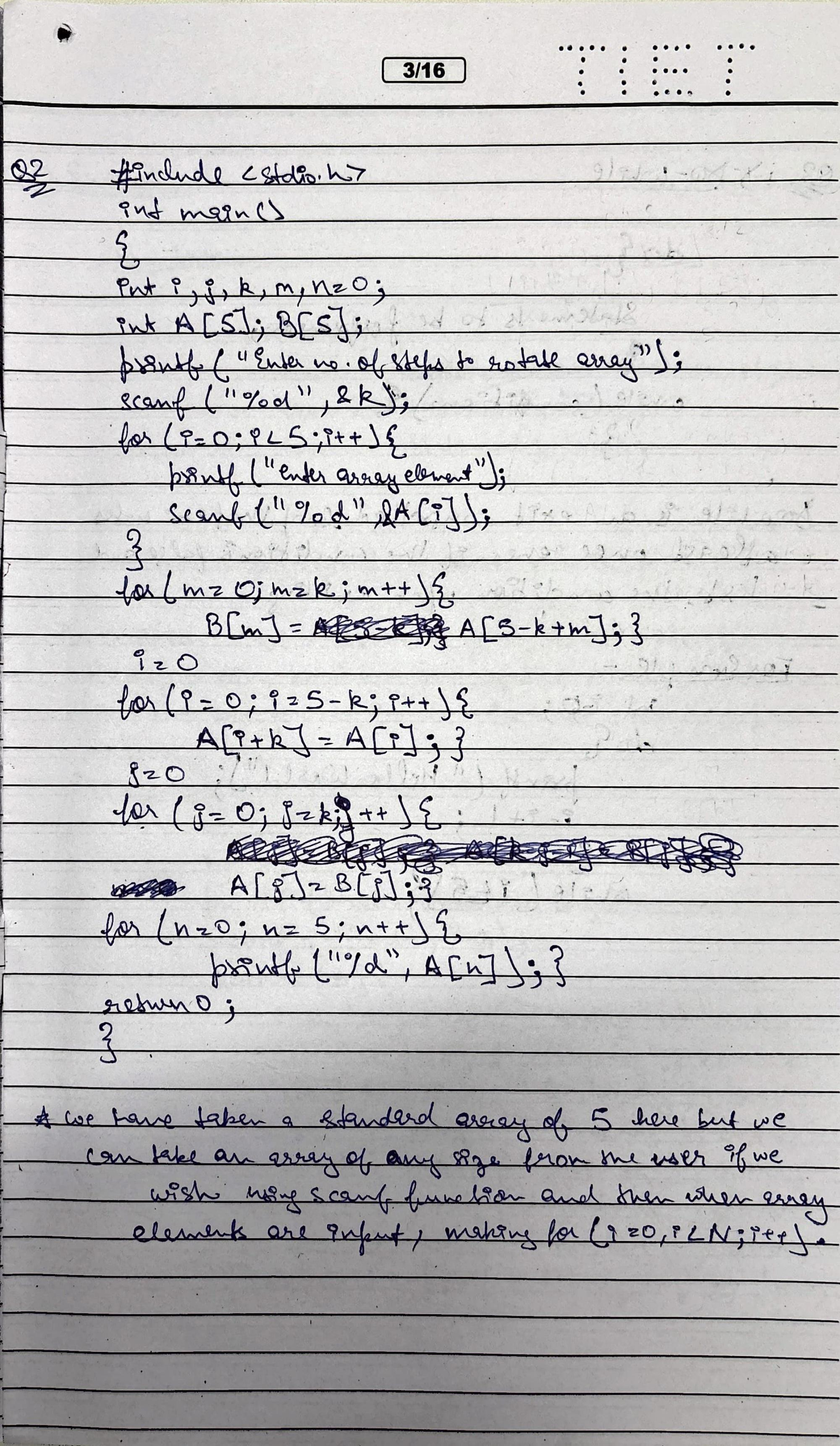cuttings: (225, 829, 747, 877), (308, 610, 452, 652), (102, 877, 186, 901)
